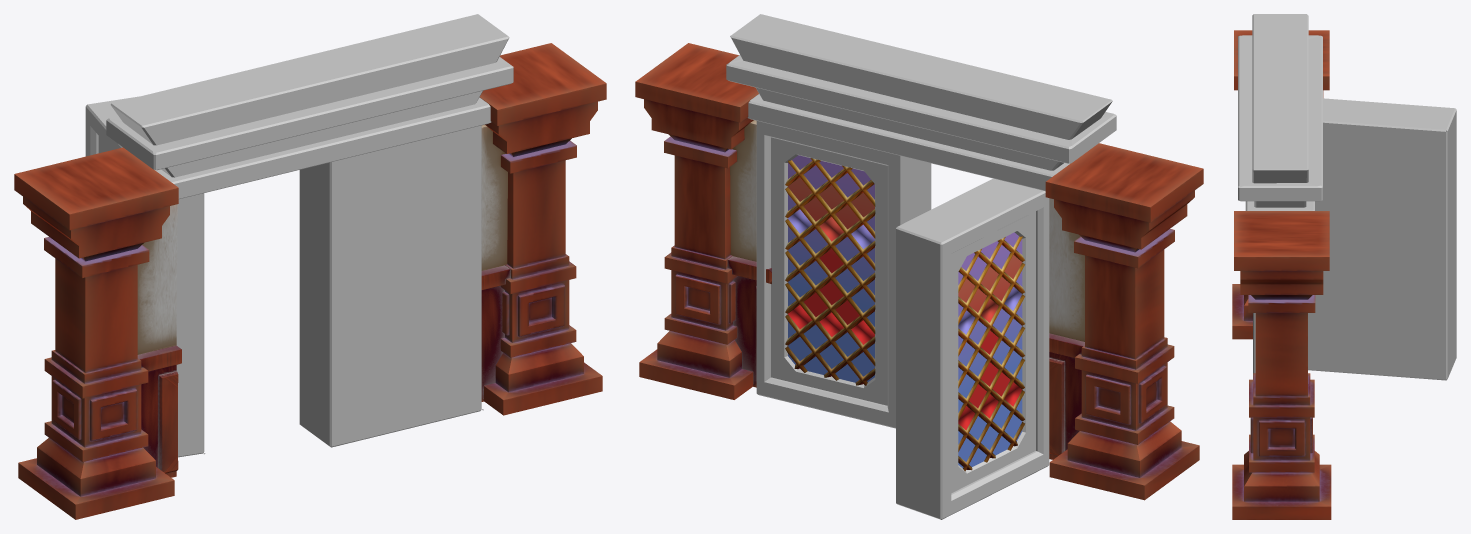
The model's file is big_door_animation.fbx.
3 views of the same model, side by side, from view 1: azimuth 30°, elevation 25°; view 2: azimuth 150°, elevation 25°; view 3: azimuth 270°, elevation 25° (orthographic). The views are drawn at different scales.
Visible parts, largest first — view 1: door, right_door; view 2: door, right_door; view 3: door, right_door.
Boxes of the visible parts, left/top/right/bottom form: door: left=14, top=14, right=606, bottom=519; right_door: left=85, top=96, right=205, bottom=457; door: left=635, top=14, right=1203, bottom=500; right_door: left=896, top=178, right=1049, bottom=519; door: left=1232, top=14, right=1331, bottom=519; right_door: left=1308, top=98, right=1456, bottom=380.
Size of the model in its own units: 1314 by 860 by 549.
